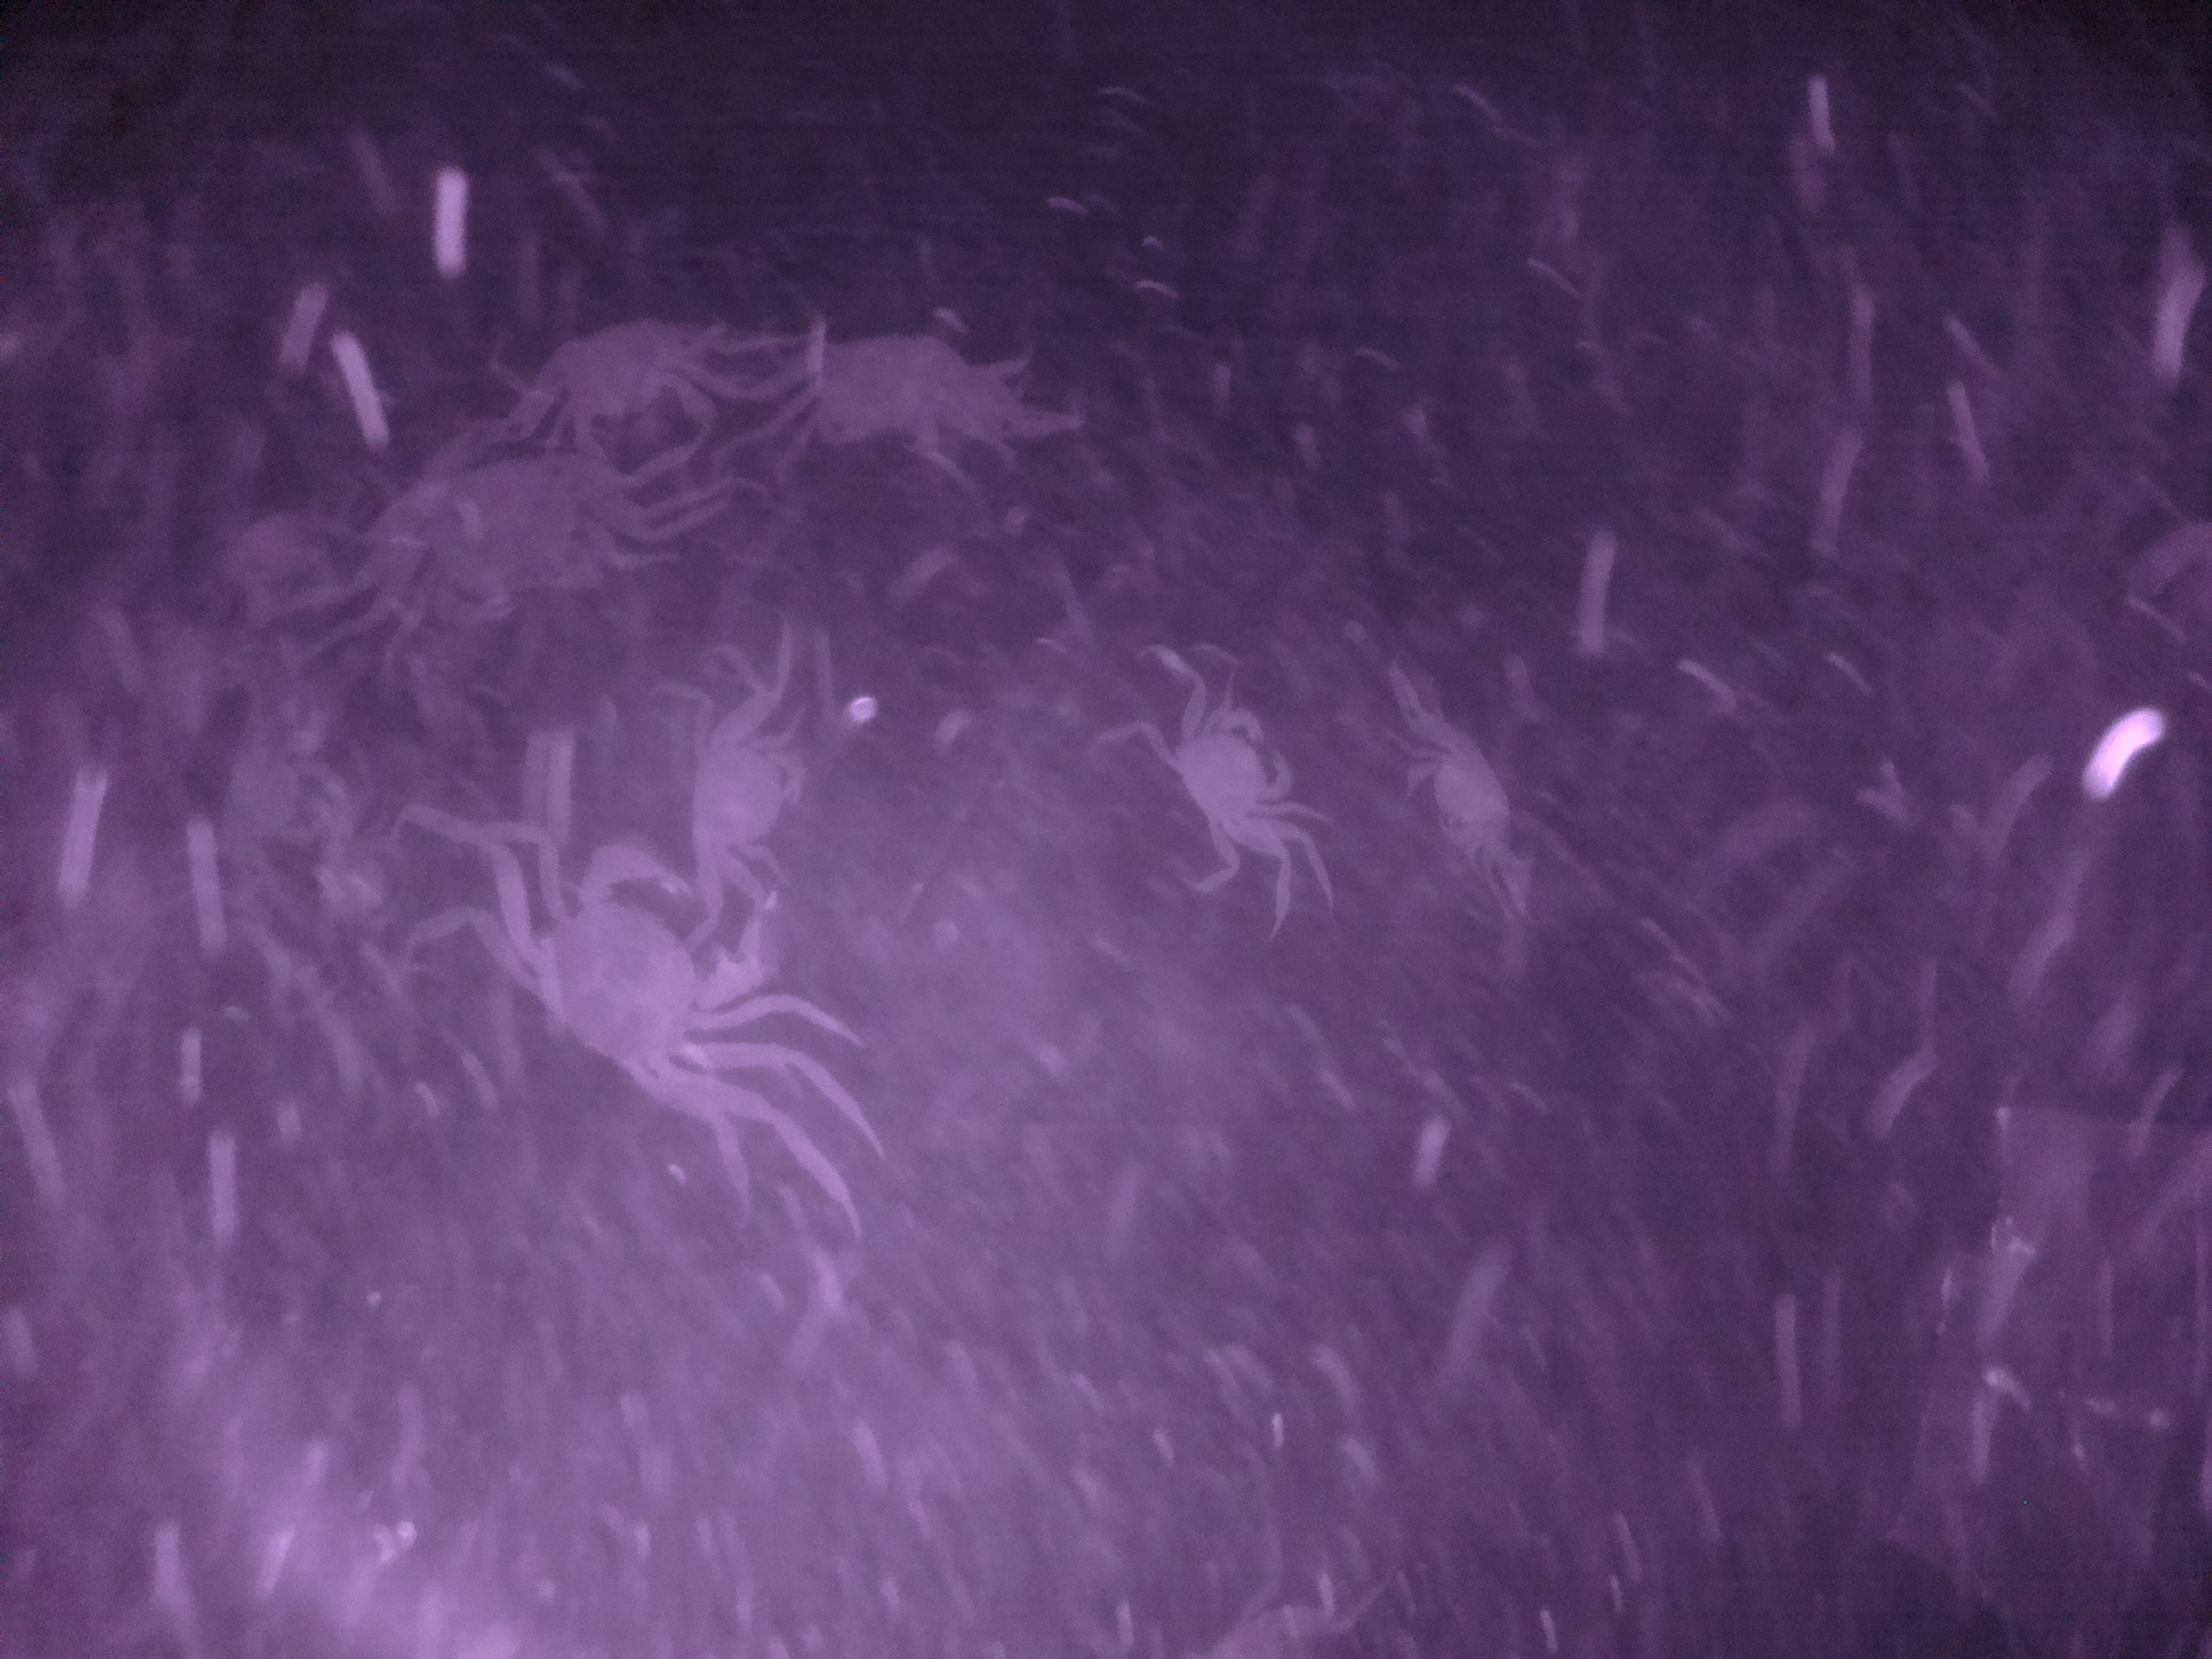Crab: (509, 852, 754, 1133), (676, 704, 826, 877), (1160, 683, 1291, 870), (1393, 727, 1527, 871)
